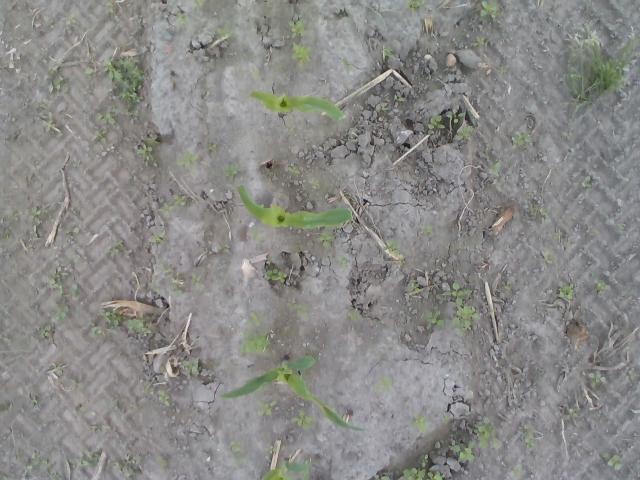Maize: (220, 350, 366, 433), (238, 182, 354, 228), (248, 88, 346, 122), (258, 456, 312, 480)
Weeds: (442, 280, 481, 336), (102, 57, 148, 104), (96, 104, 145, 130), (46, 264, 80, 298), (400, 454, 444, 480), (473, 414, 502, 448), (238, 330, 272, 354), (447, 438, 477, 464), (287, 41, 312, 72), (134, 134, 160, 163), (158, 194, 187, 220), (114, 454, 142, 480), (286, 295, 312, 321), (23, 448, 48, 473), (522, 201, 548, 224), (290, 409, 318, 429), (580, 173, 608, 193), (144, 386, 172, 406), (51, 302, 76, 323), (127, 316, 152, 336), (600, 451, 624, 471), (48, 64, 63, 96), (420, 309, 445, 328), (229, 440, 248, 464), (478, 0, 504, 17), (256, 398, 278, 418), (313, 230, 335, 250), (264, 268, 286, 288), (100, 309, 122, 329), (78, 448, 100, 468), (175, 149, 198, 168), (243, 310, 267, 328), (522, 421, 537, 448), (287, 16, 305, 38), (373, 374, 392, 393), (409, 414, 428, 433), (182, 358, 200, 376), (510, 128, 528, 146), (382, 239, 401, 256), (105, 240, 125, 256), (215, 24, 235, 40), (223, 160, 241, 177), (427, 114, 446, 130), (588, 370, 608, 385), (444, 110, 464, 125), (87, 319, 104, 336), (345, 304, 363, 320), (41, 112, 55, 132), (458, 125, 474, 142), (560, 283, 576, 300), (248, 224, 264, 240), (608, 218, 624, 234), (406, 0, 433, 9), (488, 158, 501, 176), (511, 462, 526, 477), (248, 64, 262, 80), (592, 280, 608, 294), (192, 270, 204, 288), (472, 36, 487, 50), (35, 324, 50, 338), (62, 14, 78, 26), (176, 12, 192, 24), (286, 162, 300, 175), (308, 177, 322, 190), (218, 242, 232, 255), (95, 130, 108, 144), (31, 206, 41, 224), (341, 57, 353, 72), (544, 250, 556, 265), (88, 424, 110, 432), (409, 281, 422, 294), (103, 0, 114, 14), (339, 255, 348, 272), (566, 407, 578, 419), (150, 232, 162, 244), (382, 46, 395, 57), (373, 473, 392, 480), (264, 443, 276, 454), (156, 456, 168, 467), (2, 229, 12, 241), (375, 104, 389, 112), (422, 223, 432, 234), (174, 288, 184, 299), (83, 256, 93, 266), (398, 254, 407, 265), (501, 280, 511, 289), (208, 142, 216, 153), (193, 0, 204, 7), (553, 232, 561, 240), (152, 286, 160, 294), (394, 94, 402, 102), (441, 416, 448, 424), (30, 399, 38, 406), (328, 191, 338, 196)
